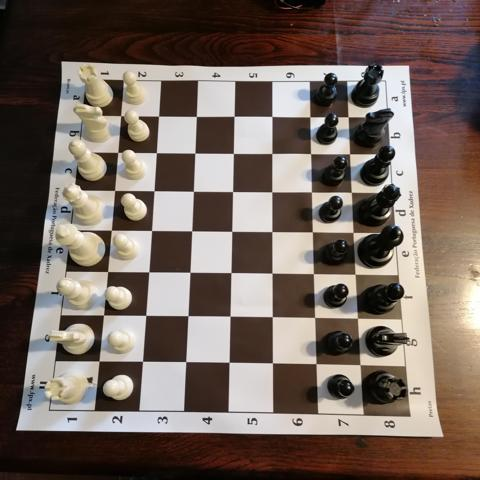xcorner: (150, 109, 166, 124), (224, 184, 240, 199), (264, 224, 280, 239), (183, 223, 198, 239), (98, 265, 114, 280), (94, 308, 109, 324), (133, 356, 149, 371), (341, 109, 356, 124), (302, 109, 317, 124), (264, 109, 279, 124), (226, 109, 241, 124), (188, 109, 203, 124), (113, 109, 128, 124), (343, 146, 358, 161), (303, 146, 318, 161), (264, 146, 279, 161), (225, 145, 240, 160), (187, 145, 202, 160), (148, 145, 163, 160), (110, 145, 125, 160), (345, 185, 360, 200), (304, 184, 319, 199), (264, 184, 279, 199), (185, 183, 200, 198), (145, 183, 160, 198), (106, 183, 121, 198), (347, 225, 362, 240), (306, 225, 321, 240), (224, 224, 239, 239), (143, 223, 158, 238), (102, 223, 117, 238), (349, 268, 364, 283), (307, 267, 322, 282), (265, 267, 280, 282), (223, 266, 238, 281), (181, 266, 196, 281), (140, 265, 155, 280), (351, 312, 366, 327), (308, 312, 323, 327), (265, 311, 280, 326), (222, 310, 237, 325), (179, 310, 194, 325), (137, 309, 152, 324), (354, 360, 369, 375), (309, 359, 324, 374), (265, 358, 280, 373), (221, 357, 236, 372), (177, 356, 192, 371), (90, 355, 105, 370)
